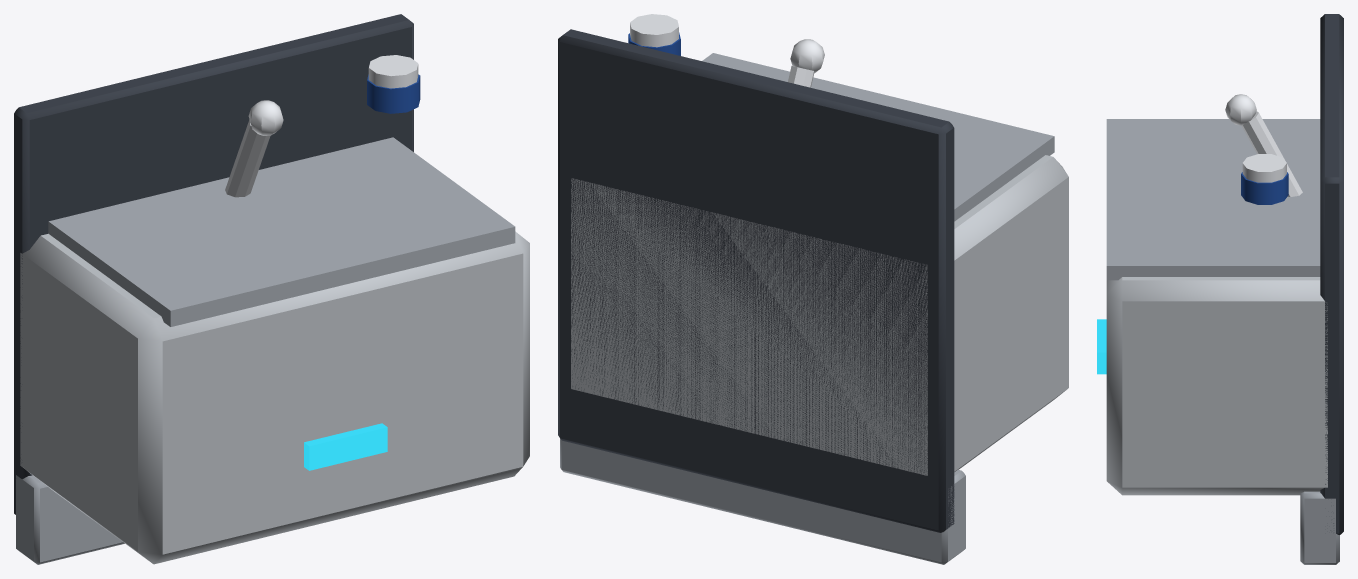
Rendered from fountain_drinking_fountain_wall_unit.glb.
The picture shows the model from 3 angles, left to right: view 1: azimuth 30°, elevation 25°; view 2: azimuth 150°, elevation 25°; view 3: azimuth 270°, elevation 25°; orthographic projection. The views are drawn at different scales.
Visible parts, largest first — view 1: fountain_drinking_fountain_wall_unit; view 2: fountain_drinking_fountain_wall_unit; view 3: fountain_drinking_fountain_wall_unit.
Part boxes in pixels (x1,y1,x2,y2): fountain_drinking_fountain_wall_unit: [14, 14, 529, 564]; fountain_drinking_fountain_wall_unit: [558, 14, 1068, 564]; fountain_drinking_fountain_wall_unit: [1097, 14, 1343, 564].
Size of the model in its own units: 0.5 by 0.54 by 0.312.
